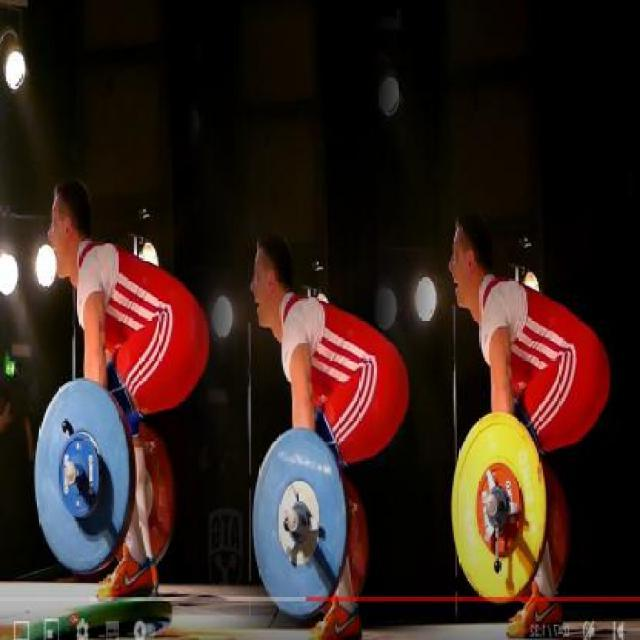Barbell: (62, 452, 80, 490), (283, 503, 302, 537), (483, 489, 502, 522)
